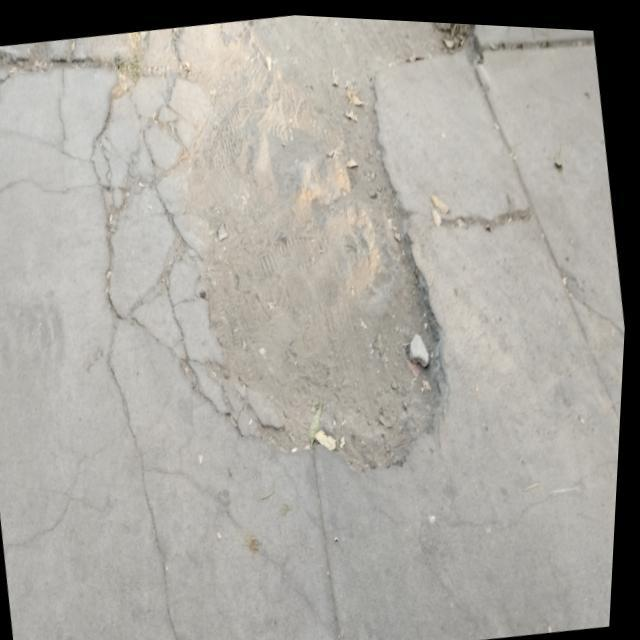hole: (159, 52, 475, 496)
